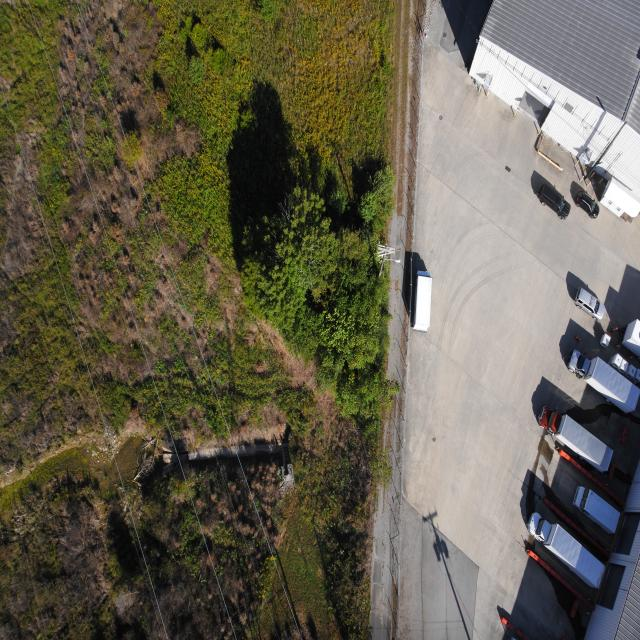Area of Interest: (240, 157, 396, 425)
